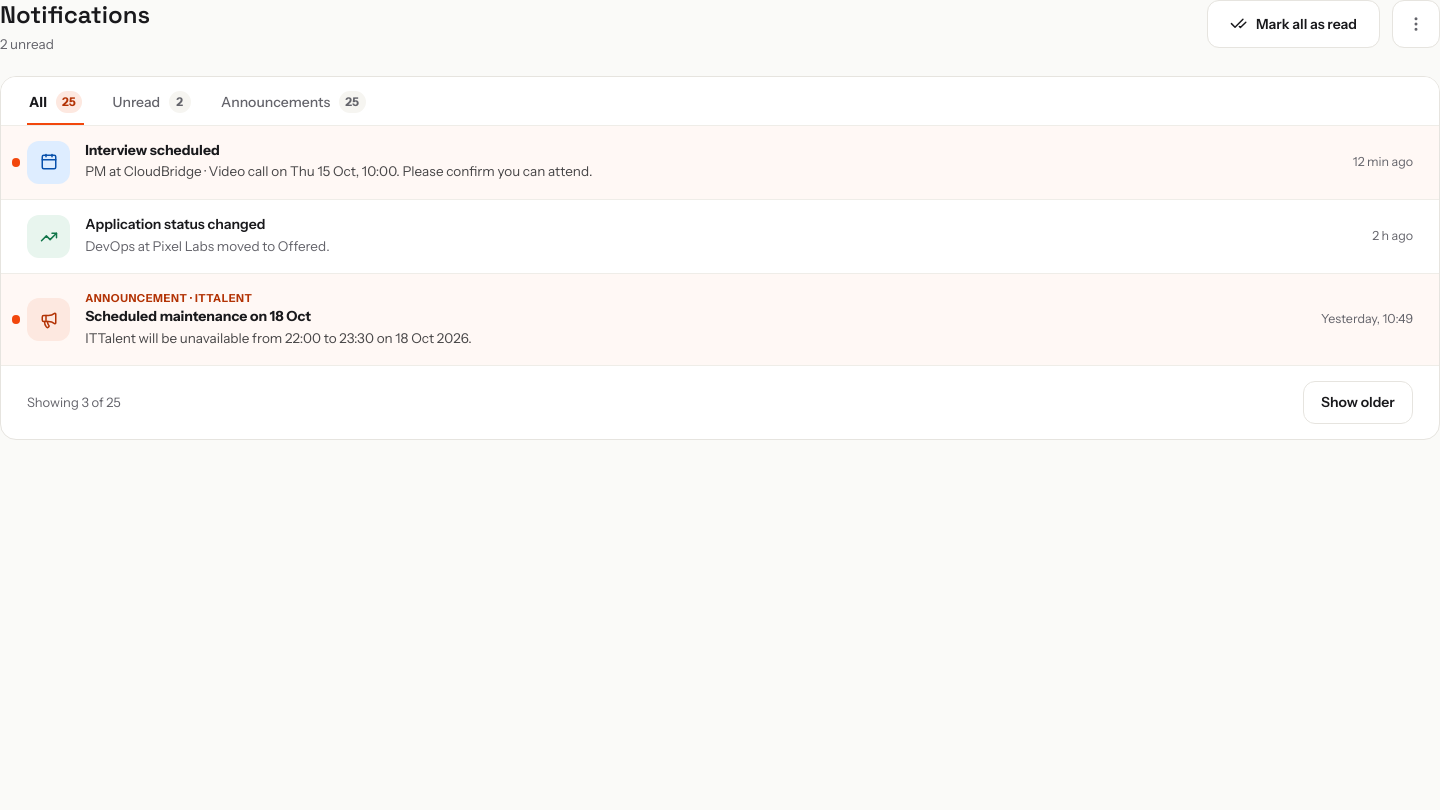
NotificationCenterPage & NotificationItemRow Suite › NotificationCenterPage › displays error toast when mark all as read mutation fails
The image size is (1440, 810).
Step 1. Click the button "Mark all as read" → (1293, 24), box [1207,0,1380,48]
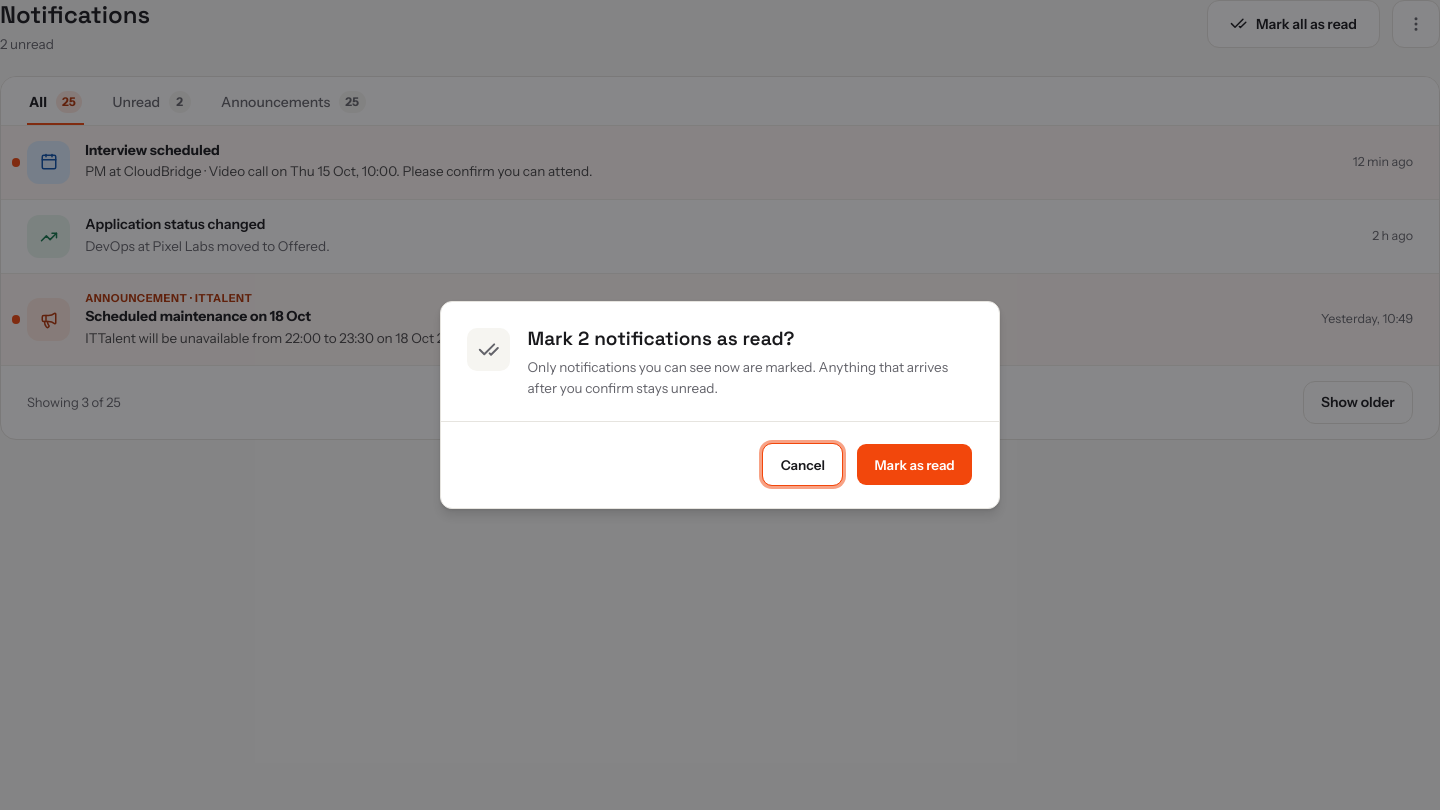
Step 2. Click the button "Mark as read" → (915, 465), box [856,443,973,486]
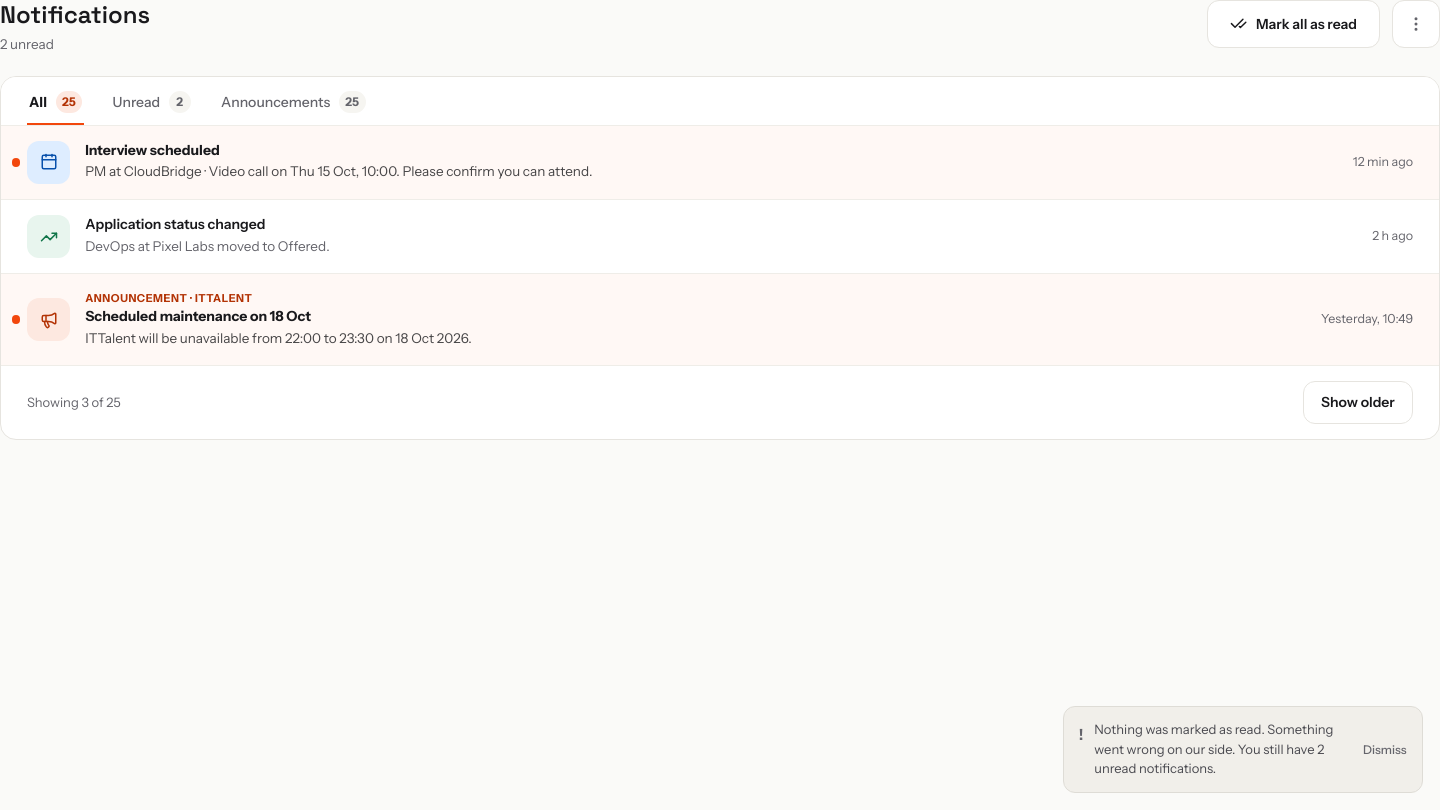
Expected: the text "Nothing was marked as read. Something went wrong on our side" is shown, [1094,721,1334,776]
